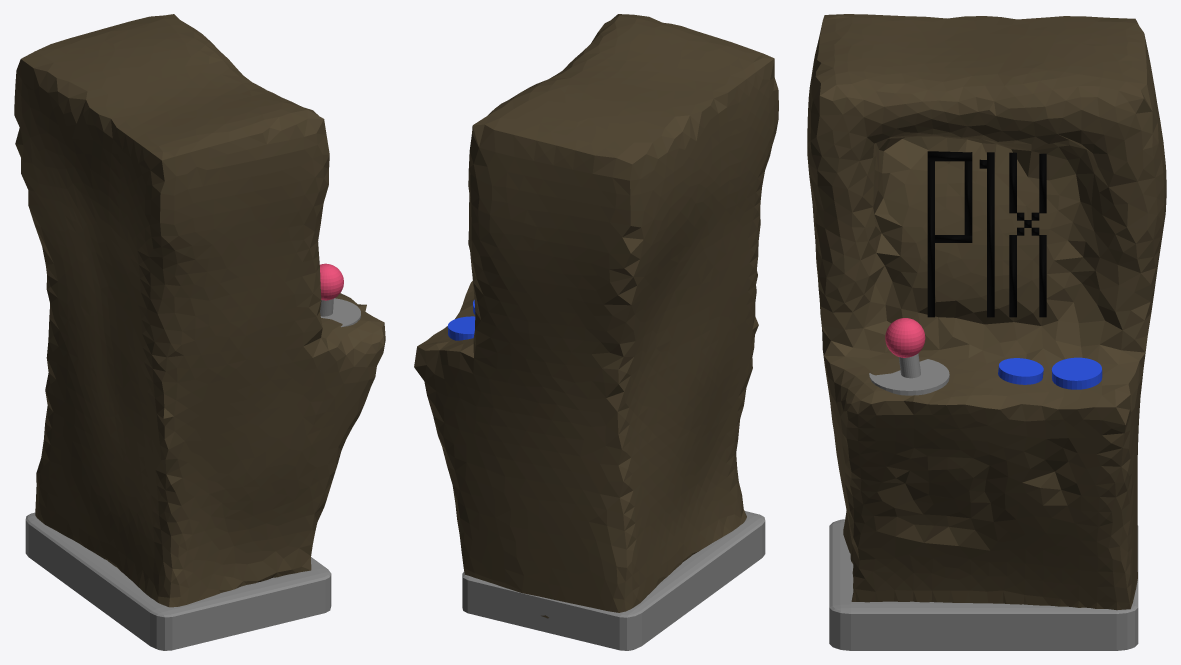
Rendered from micro-arcade.dae.
3 views of the same model, side by side, from view 1: azimuth 30°, elevation 25°; view 2: azimuth 150°, elevation 25°; view 3: azimuth 270°, elevation 25° (orthographic). The views are drawn at different scales.
Parts seen in each view (by area): view 1: Cube.000, Cube.005, Sphere.000, Cylinder.001; view 2: Cube.000, Cube.005, Cylinder.003; view 3: Cube.000, Cube.005, p1x.001, Cylinder.001, Cylinder.003, Sphere.000, Cylinder.002.
Part boxes in pixels (<box>): Cube.000: <box>14,14,385,607</box>; Cube.005: <box>25,512,331,650</box>; Sphere.000: <box>320,263,343,300</box>; Cylinder.001: <box>320,298,360,327</box>; Cube.000: <box>414,14,778,618</box>; Cube.005: <box>462,511,765,650</box>; Cylinder.003: <box>447,316,475,340</box>; Cube.000: <box>807,14,1166,610</box>; Cube.005: <box>829,519,1138,650</box>; p1x.001: <box>927,151,1046,317</box>; Cylinder.001: <box>869,359,949,395</box>; Cylinder.003: <box>1051,357,1102,389</box>; Sphere.000: <box>885,318,925,357</box>; Cylinder.002: <box>998,358,1043,384</box>.
Size of the model in its own units: 2.04 by 2.3 by 3.93.
